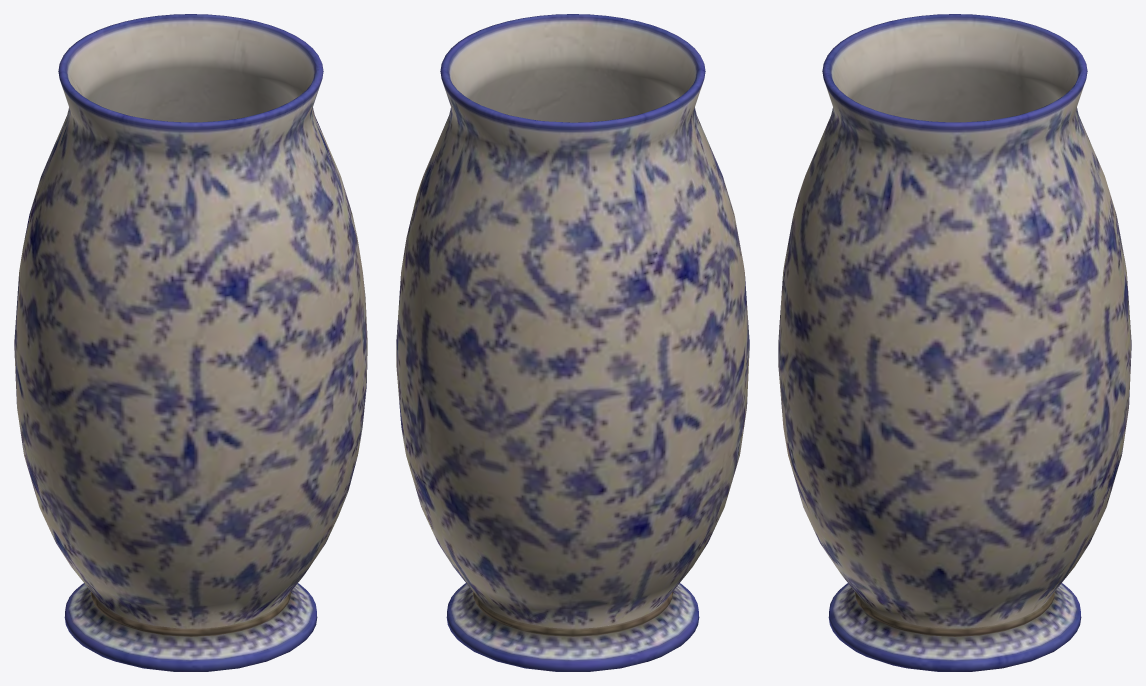
Rendered from antique-ceramic-vase-01.glb.
The picture shows the model from 3 angles, left to right: view 1: azimuth 30°, elevation 25°; view 2: azimuth 150°, elevation 25°; view 3: azimuth 270°, elevation 25°; orthographic projection.
Visible parts, largest first — view 1: antique_ceramic_vase_01; view 2: antique_ceramic_vase_01; view 3: antique_ceramic_vase_01.
Boxes of the visible parts, box(x1,y1,x2,y2) form: antique_ceramic_vase_01: box(14, 14, 367, 671); antique_ceramic_vase_01: box(396, 14, 749, 671); antique_ceramic_vase_01: box(778, 14, 1131, 671).
Bounding box in the file's own units: 0.255 × 0.4396 × 0.255.
1 material, 1 textured.
